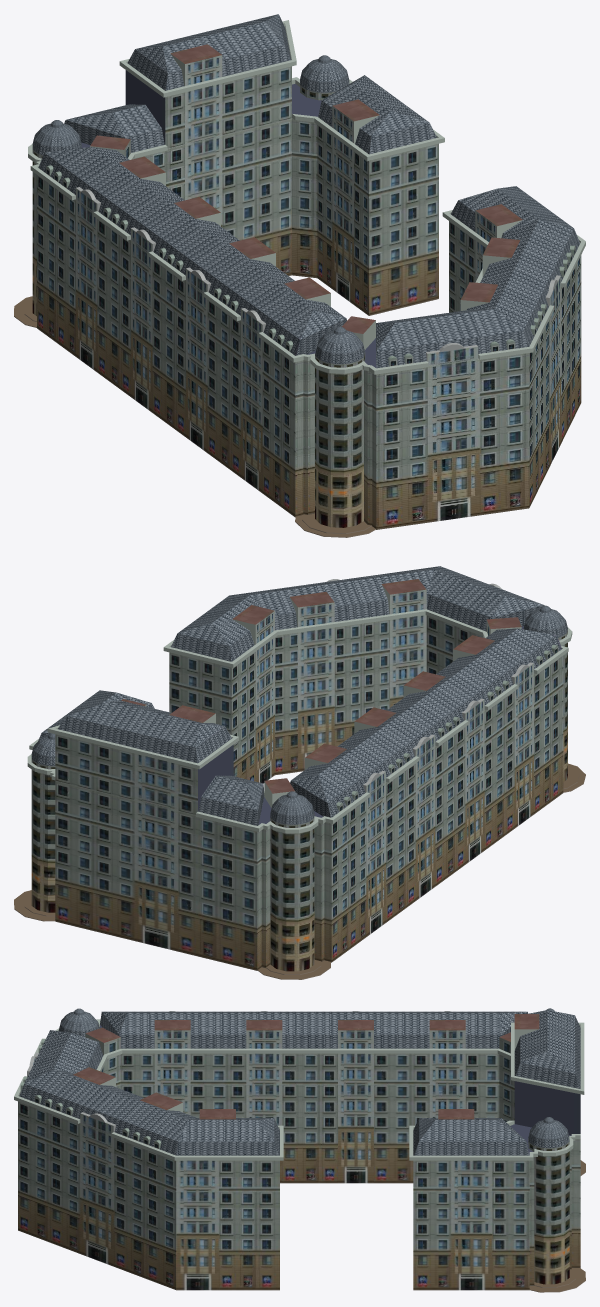
3 views of the same model, one above another, from view 1: azimuth 30°, elevation 25°; view 2: azimuth 150°, elevation 25°; view 3: azimuth 270°, elevation 25° (orthographic). The views are drawn at different scales.
Parts seen in each view (by area): view 1: HN566___CT5_Song_Da_Me_Tri; view 2: HN566___CT5_Song_Da_Me_Tri; view 3: HN566___CT5_Song_Da_Me_Tri.
Boxes of the visible parts, x1,y1,x2,y2 form: HN566___CT5_Song_Da_Me_Tri: [14, 14, 585, 537]; HN566___CT5_Song_Da_Me_Tri: [14, 566, 585, 979]; HN566___CT5_Song_Da_Me_Tri: [14, 1008, 585, 1292].
Bounding box in the file's own units: 70.28 × 47.04 × 121.
Materials: 1 (1 with a texture image).
